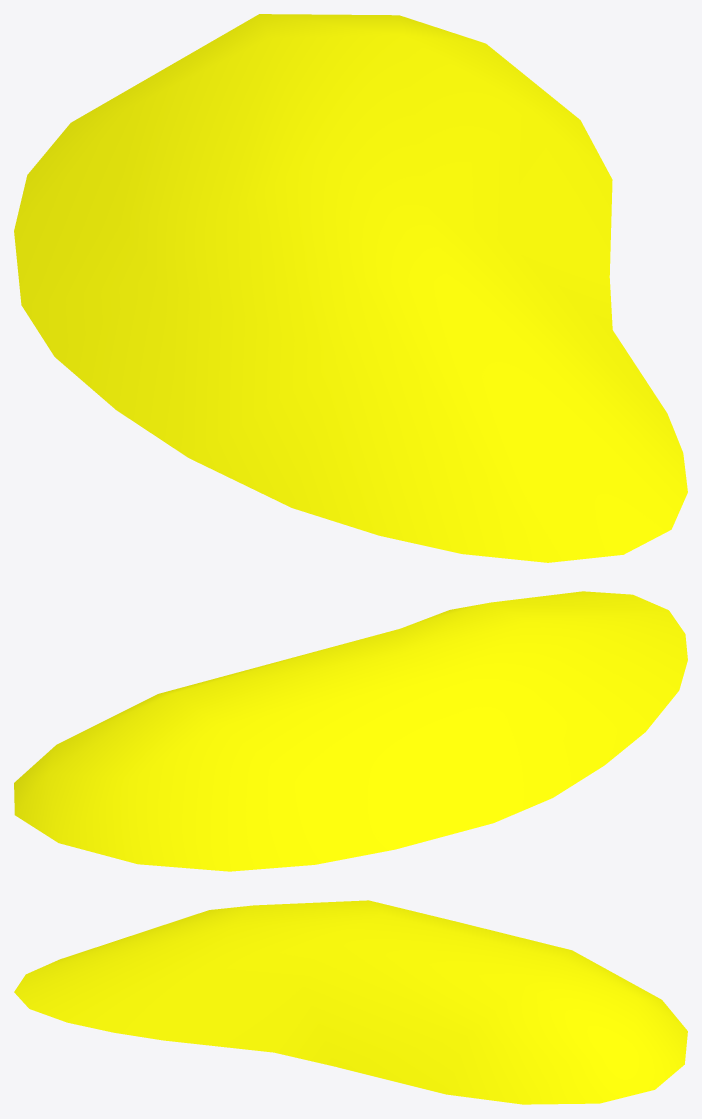
File: gravel_pile_hr_1.glb
3 views of the same model, one above another, from view 1: azimuth 30°, elevation 25°; view 2: azimuth 150°, elevation 25°; view 3: azimuth 270°, elevation 25° (orthographic). The views are drawn at different scales.
Visible parts, largest first — view 1: gravel_pile_hr_1; view 2: gravel_pile_hr_1; view 3: gravel_pile_hr_1.
Boxes of the visible parts, bbox=[...] form: gravel_pile_hr_1: bbox=[14, 14, 687, 562]; gravel_pile_hr_1: bbox=[14, 591, 687, 871]; gravel_pile_hr_1: bbox=[14, 900, 687, 1104].
Size of the model in its own units: 1.17 by 0.2567 by 1.9.
1 material, 1 textured.
